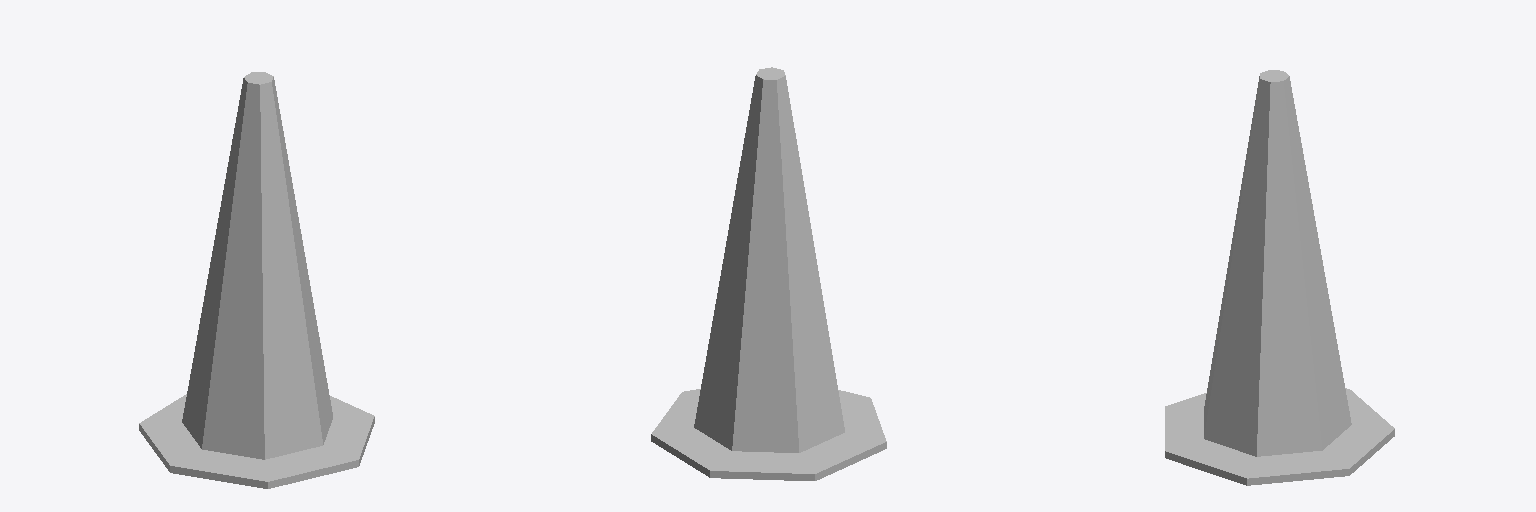
The model's file is traffic-cone.obj.
3 views of the same model, side by side, from view 1: azimuth 30°, elevation 25°; view 2: azimuth 150°, elevation 25°; view 3: azimuth 270°, elevation 25° (orthographic).
Parts seen in each view (by area): view 1: traffic-cone; view 2: traffic-cone; view 3: traffic-cone.
Boxes of the visible parts, box(x1,y1,x2,y2) form: traffic-cone: box(139, 72, 374, 488); traffic-cone: box(651, 67, 886, 480); traffic-cone: box(1165, 70, 1394, 485).
Size of the model in its own units: 0.5705 by 0.9596 by 0.5562.